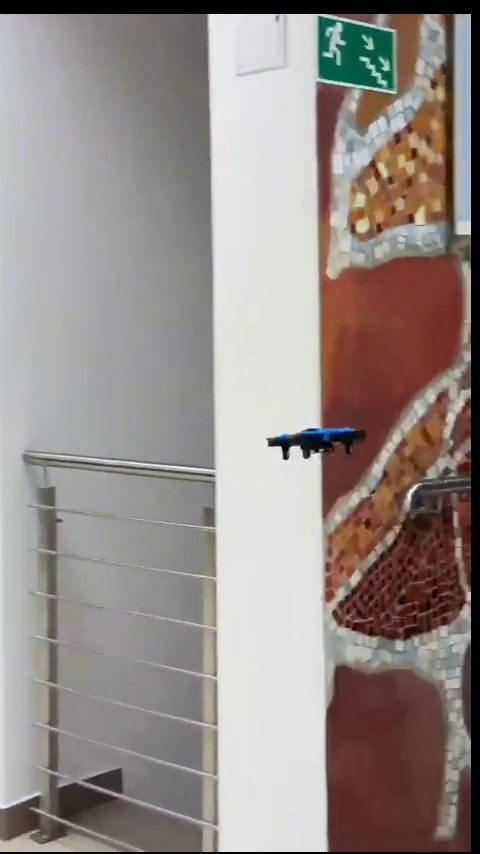drone: (268, 424, 364, 466)
